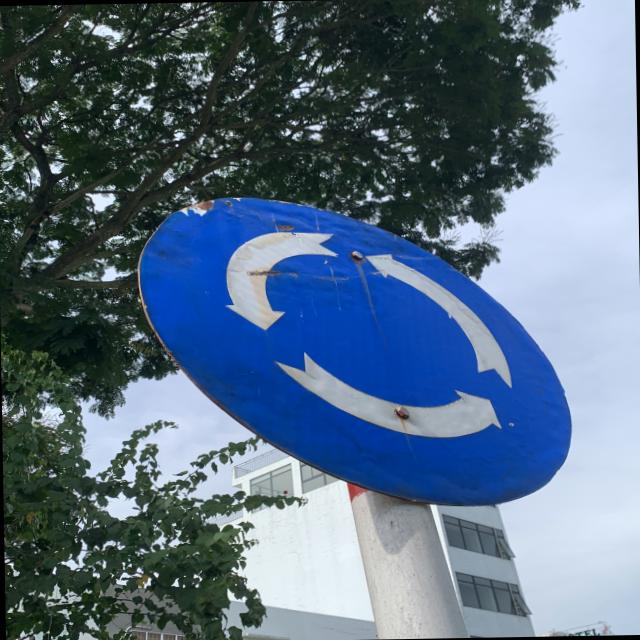Xe_Bus: (140, 188, 578, 513)
